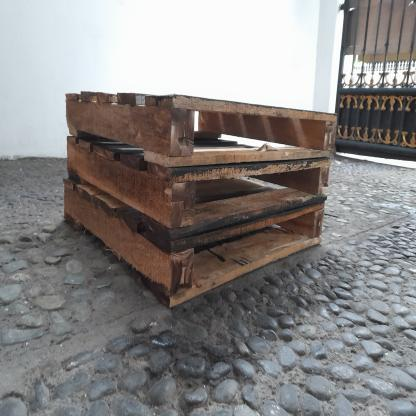Wooden-Pallet: (64, 177, 325, 314), (65, 136, 332, 237), (66, 88, 340, 166)
